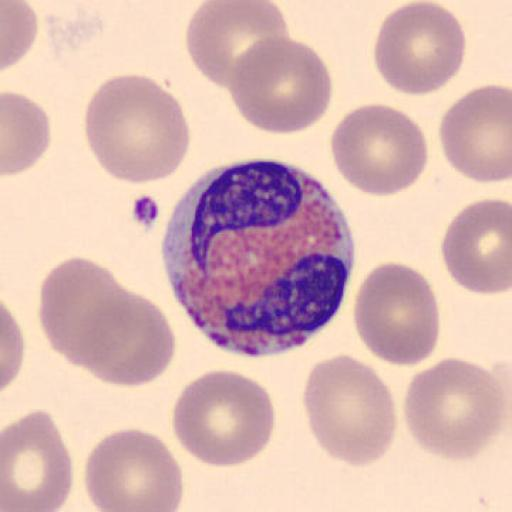RBC: (38, 255, 177, 388), (83, 72, 191, 186), (401, 356, 509, 462), (37, 254, 132, 371), (301, 353, 397, 468), (226, 35, 334, 136), (172, 367, 276, 468), (350, 258, 442, 368), (76, 287, 176, 387), (184, 0, 291, 92), (330, 101, 429, 198), (371, 0, 467, 97), (83, 426, 184, 512), (438, 83, 512, 185), (1, 409, 74, 512), (439, 196, 512, 296), (2, 90, 52, 178), (2, 0, 38, 72), (0, 298, 24, 397)
WBC: (162, 157, 356, 359)
